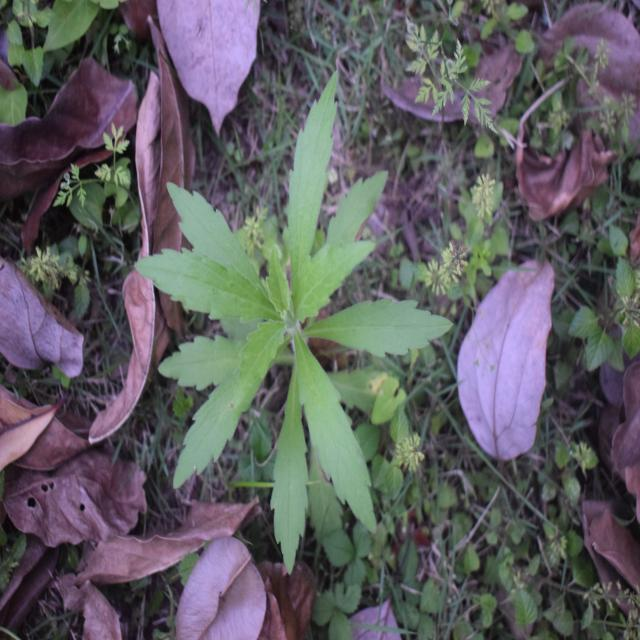horseweed: (158, 105, 400, 509)
